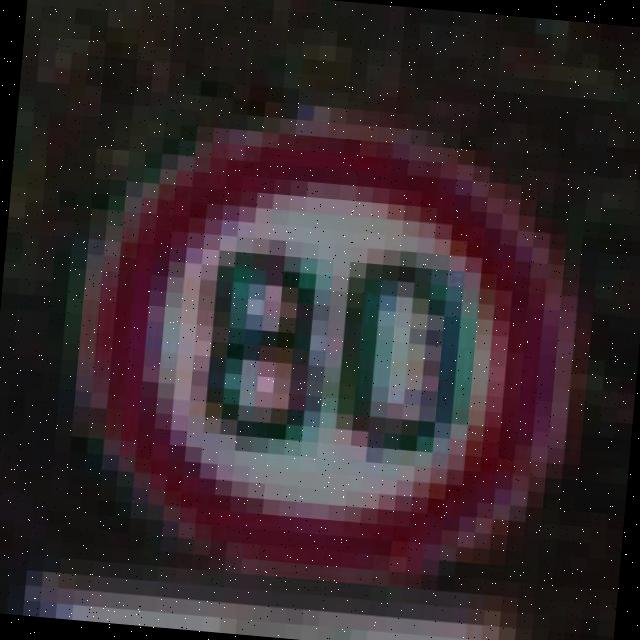Ograniczenie predkosci do 80: (70, 110, 572, 598)
